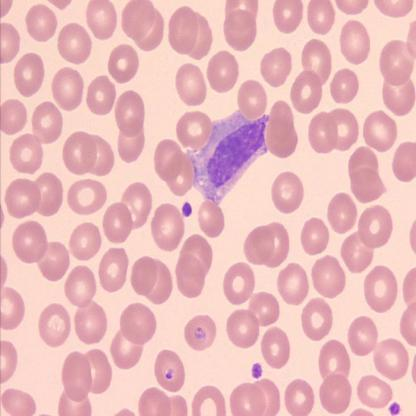Metamyelocyte: (184, 106, 272, 205)
